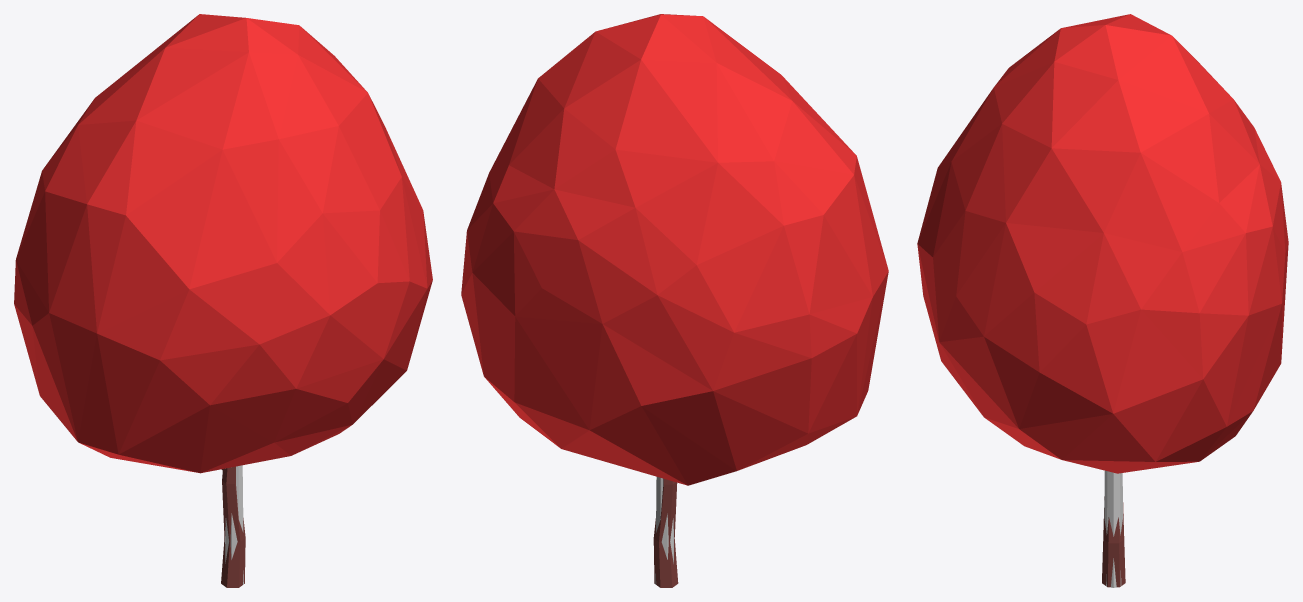
Rendered from floresta_tree_maple_red.glb.
The picture shows the model from 3 angles, left to right: view 1: azimuth 30°, elevation 25°; view 2: azimuth 150°, elevation 25°; view 3: azimuth 270°, elevation 25°; orthographic projection.
Visible parts, largest first — view 1: Maple red f, Colisao; view 2: Maple red f, Colisao; view 3: Maple red f, Colisao.
Part boxes in pixels (box(x1,y1,x2,y2)): Maple red f: box(14, 14, 432, 587); Colisao: box(225, 465, 243, 584); Maple red f: box(461, 14, 888, 587); Colisao: box(655, 477, 674, 584); Maple red f: box(917, 14, 1288, 587); Colisao: box(1104, 470, 1122, 587).
Size of the model in its own units: 8.74 by 12.41 by 7.42.
